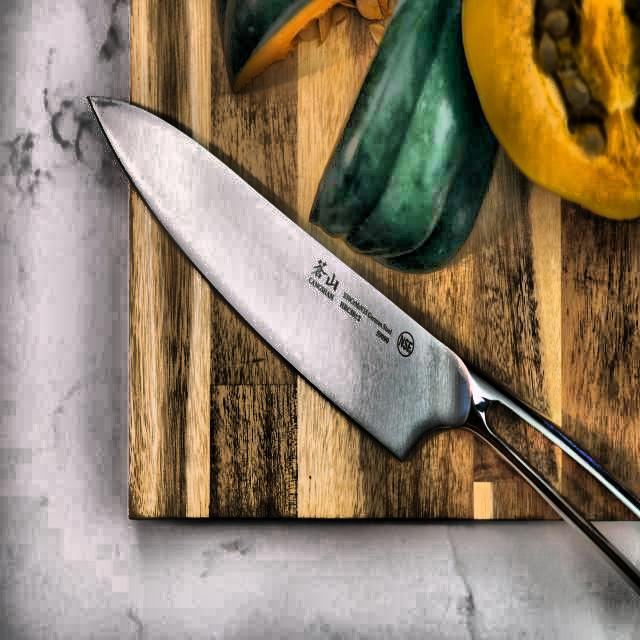knife: (85, 90, 640, 590)
